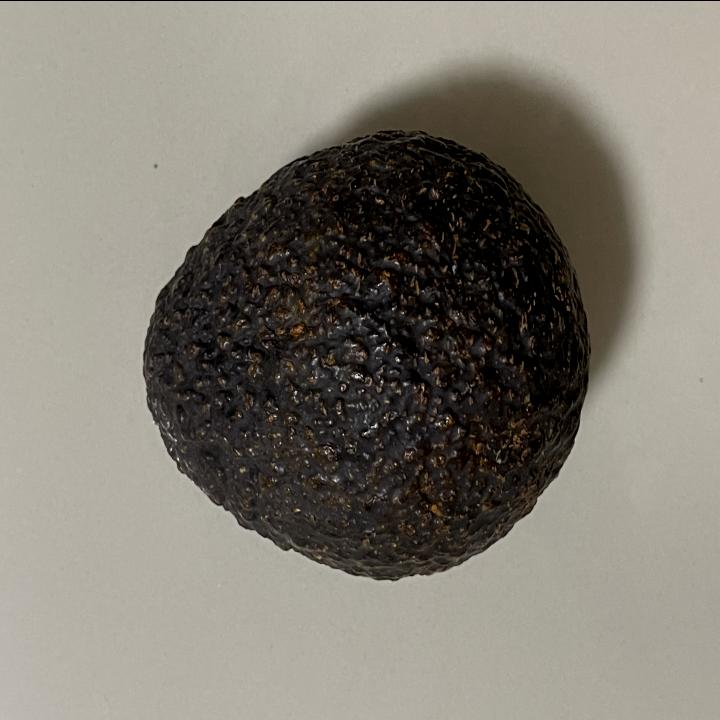Level2: (132, 119, 595, 590)
